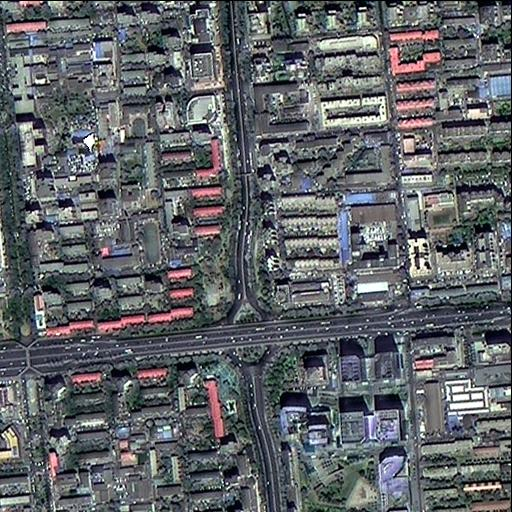school: (119, 97, 154, 141), (422, 191, 458, 229)
